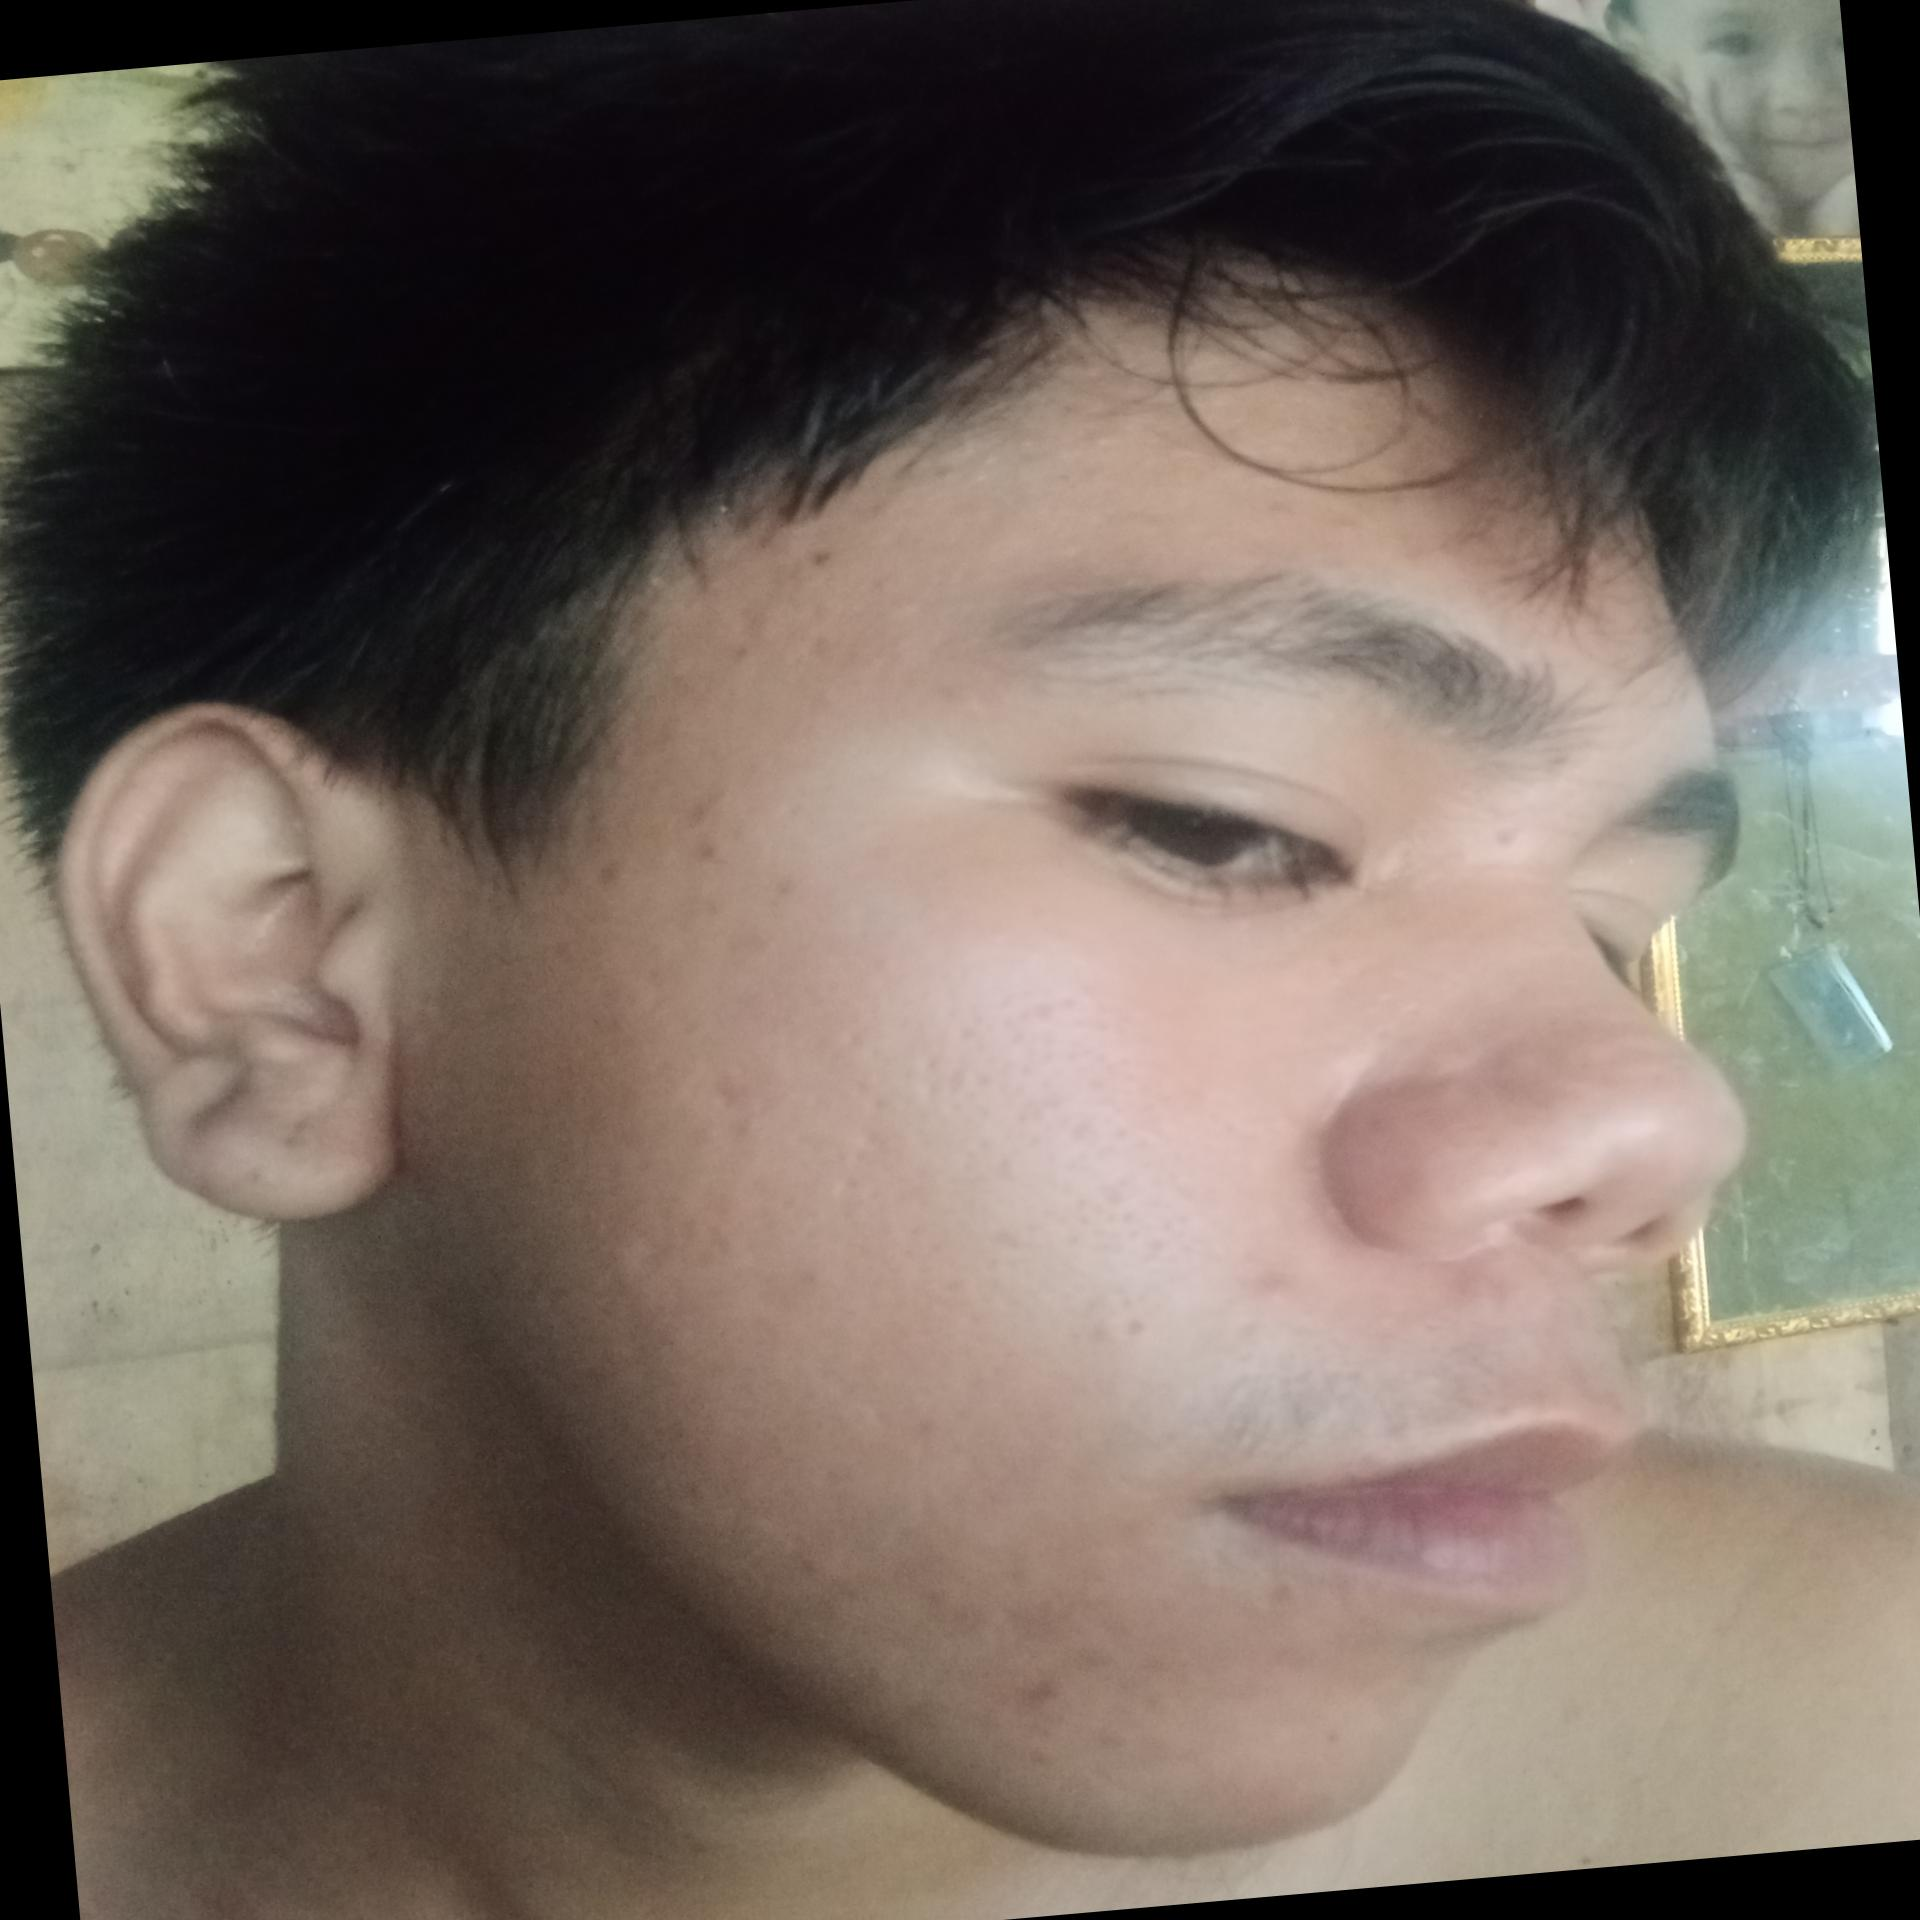Acne: (686, 1060, 782, 1152), (654, 788, 753, 869), (1233, 1266, 1336, 1336), (1259, 1577, 1340, 1640), (765, 1247, 846, 1308), (1306, 1707, 1377, 1769), (1000, 1670, 1081, 1714), (1106, 1305, 1164, 1347), (1479, 821, 1538, 853), (578, 860, 622, 897)
Englarged Pores: (911, 981, 1213, 1289)
